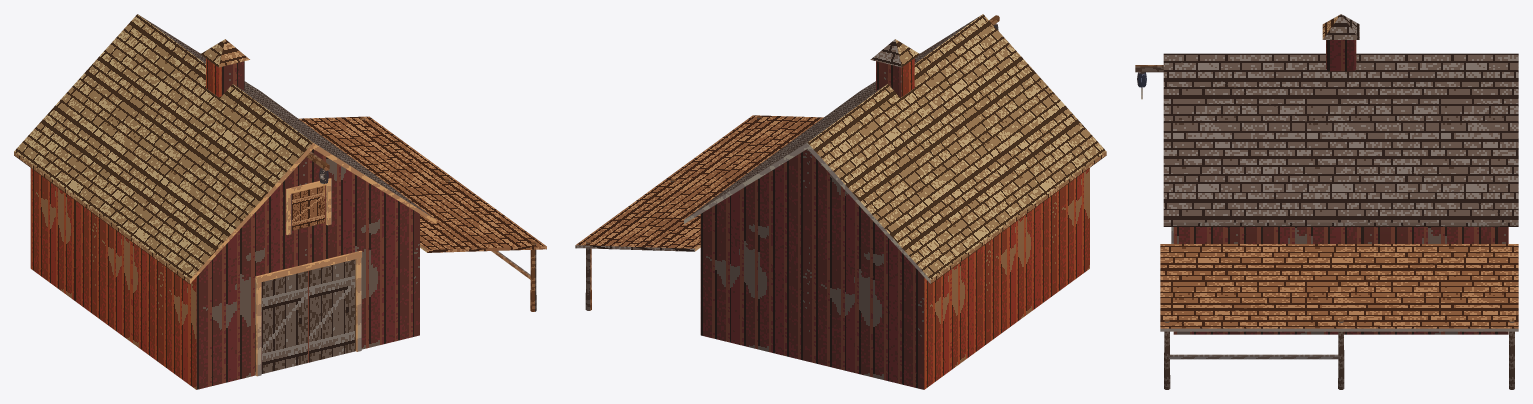
File: wtown.stable__wide.glb
3 renders of one model, left to right at view 1: azimuth 30°, elevation 25°; view 2: azimuth 150°, elevation 25°; view 3: azimuth 270°, elevation 25°, orthographic.
Parts seen in each view (by area): view 1: kit_roof, kit_body, kit_lean_to, kit_card_panes, kit_trim, kit_cupola, kit_cupola_cap; view 2: kit_body, kit_roof, kit_lean_to, kit_cupola, kit_cupola_cap; view 3: kit_roof, kit_lean_to, kit_body, kit_lean_rail, kit_cupola, kit_cupola_cap, kit_hoist.
Boxes of the visible parts, x1=… form: kit_roof: x1=14, y1=14, x2=436, y2=283; kit_body: x1=30, y1=149, x2=419, y2=389; kit_lean_to: x1=299, y1=116, x2=546, y2=311; kit_card_panes: x1=262, y1=186, x2=354, y2=373; kit_trim: x1=255, y1=178, x2=362, y2=376; kit_cupola: x1=206, y1=58, x2=244, y2=97; kit_cupola_cap: x1=200, y1=39, x2=249, y2=67; kit_body: x1=700, y1=149, x2=1089, y2=389; kit_roof: x1=684, y1=14, x2=1106, y2=283; kit_lean_to: x1=575, y1=115, x2=823, y2=310; kit_cupola: x1=876, y1=58, x2=914, y2=97; kit_cupola_cap: x1=870, y1=39, x2=919, y2=67; kit_roof: x1=1163, y1=53, x2=1518, y2=226; kit_lean_to: x1=1160, y1=244, x2=1518, y2=389; kit_body: x1=1173, y1=227, x2=1508, y2=334; kit_lean_rail: x1=1169, y1=354, x2=1339, y2=359; kit_cupola: x1=1326, y1=40, x2=1356, y2=71; kit_cupola_cap: x1=1322, y1=14, x2=1359, y2=39; kit_hoist: x1=1135, y1=65, x2=1163, y2=87.
Bounding box in the file's own units: 12.37 × 8.75 × 11.45.
9 materials, 9 textured.
